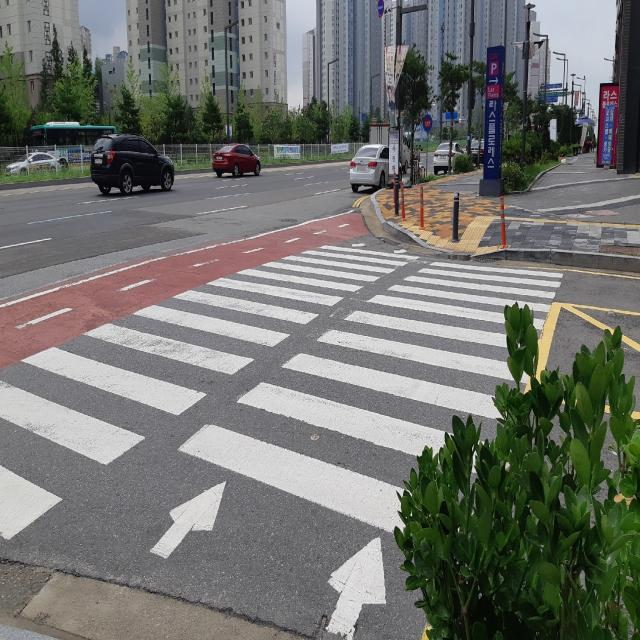횡단보도: (0, 242, 564, 640)
